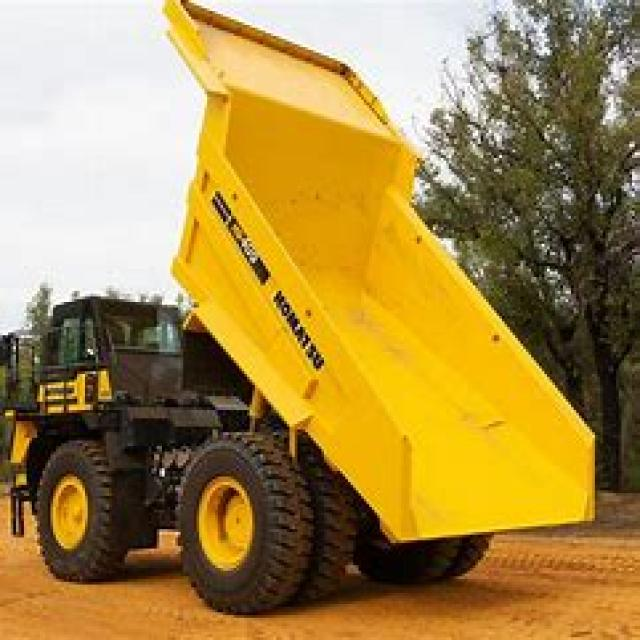dump_truck: (0, 3, 603, 598)
